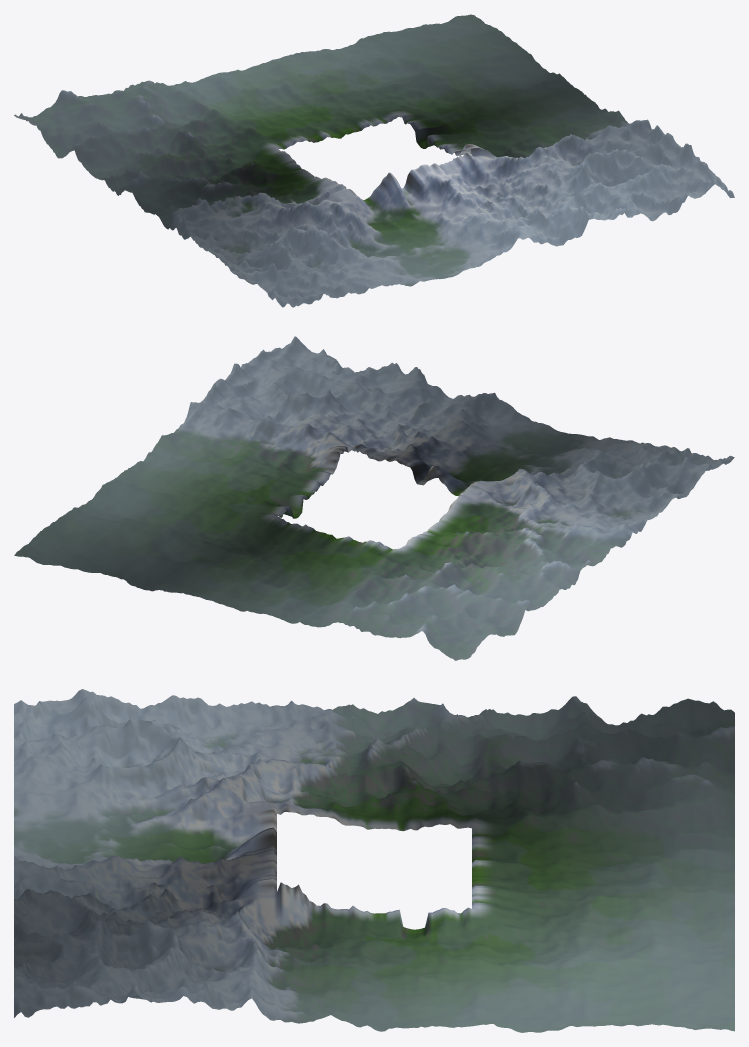
The picture shows the model from 3 angles, top to bottom: view 1: azimuth 30°, elevation 25°; view 2: azimuth 150°, elevation 25°; view 3: azimuth 270°, elevation 25°; orthographic projection. The views are drawn at different scales.
Visible parts, largest first — view 1: L4_1_FarTerrain; view 2: L4_1_FarTerrain; view 3: L4_1_FarTerrain.
Part boxes in pixels (bbox=[...]): L4_1_FarTerrain: bbox=[14, 14, 734, 307]; L4_1_FarTerrain: bbox=[14, 336, 734, 660]; L4_1_FarTerrain: bbox=[14, 689, 734, 1032].
Size of the model in its own units: 2800 by 239 by 2800.
